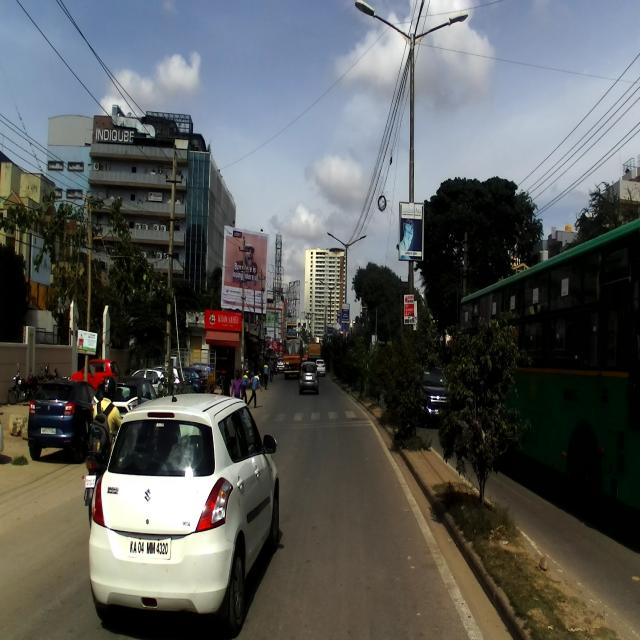bus: (460, 219, 638, 530)
car: (84, 392, 277, 632), (27, 377, 97, 459), (407, 355, 459, 434), (92, 374, 158, 424), (298, 360, 322, 393)
